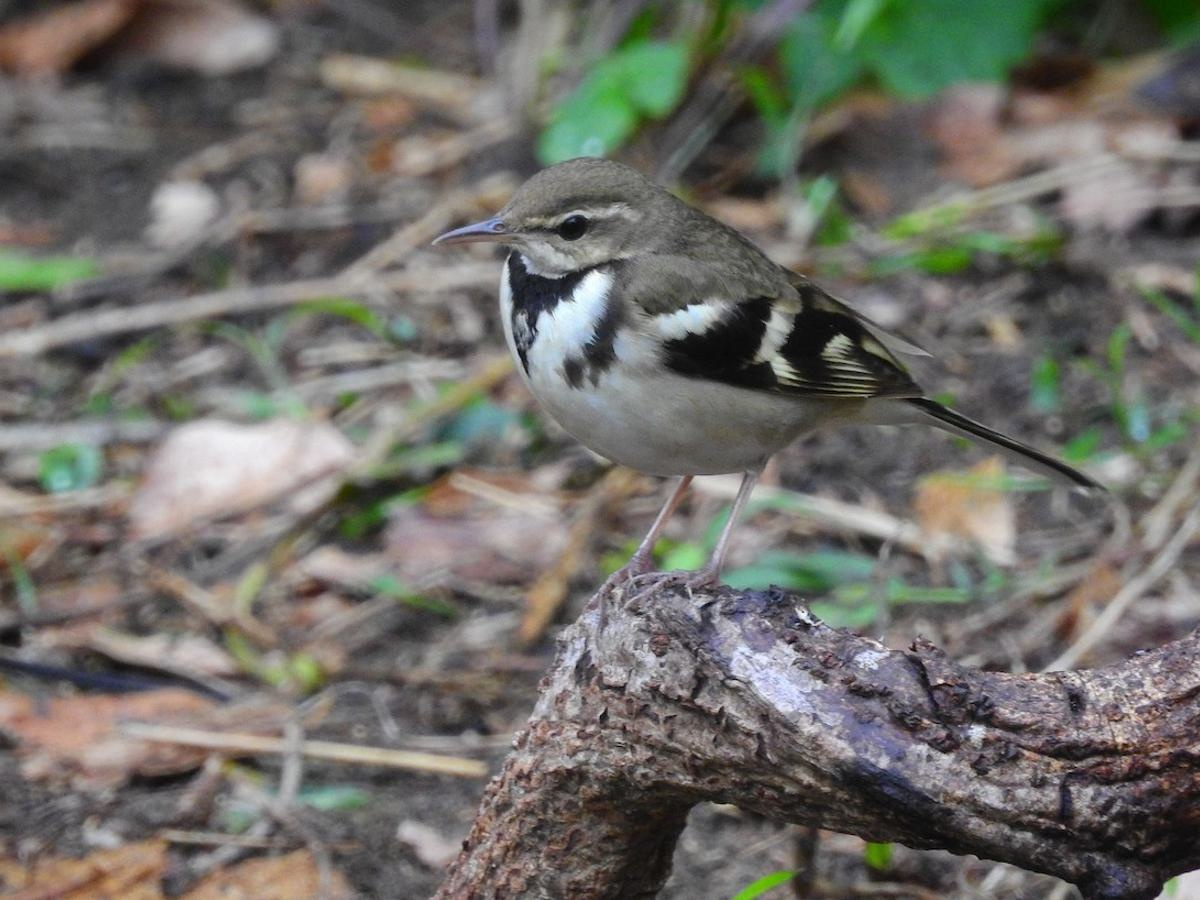wagtail: (441, 140, 1029, 583)
